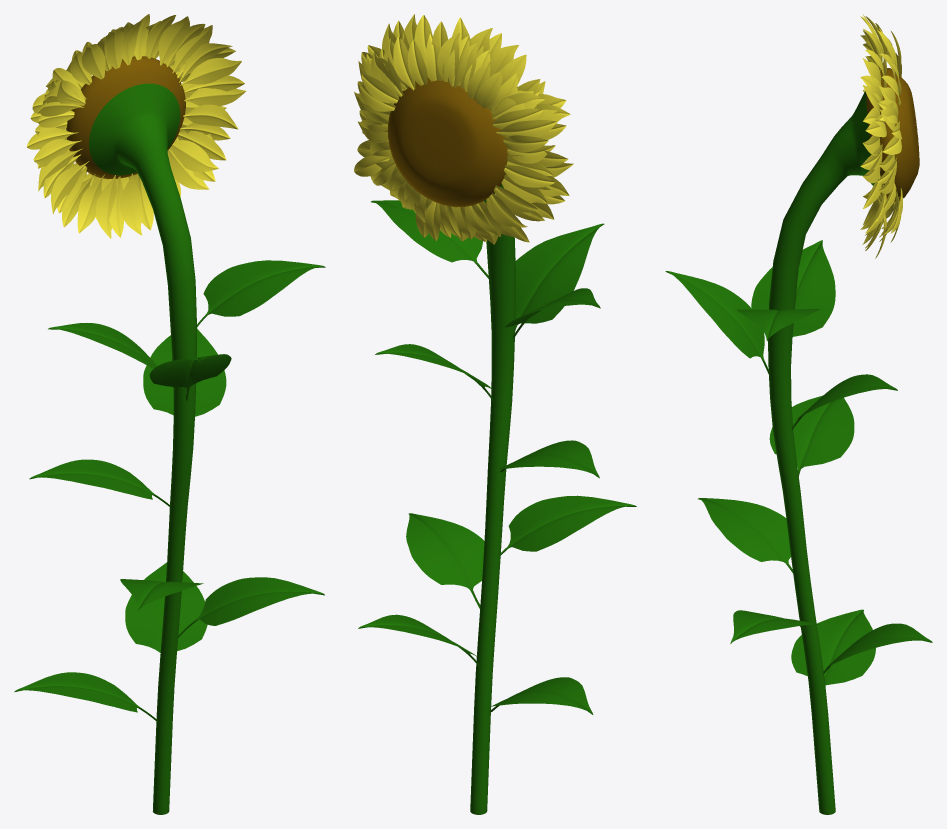
File: sunflowernew.fbx
3 renders of one model, left to right at view 1: azimuth 30°, elevation 25°; view 2: azimuth 150°, elevation 25°; view 3: azimuth 270°, elevation 25°, orthographic. The views are drawn at different scales.
Visible parts, largest first — view 1: sunflowerstem, sunflowers_sunflowerpetals_leaf48; view 2: sunflowerstem, sunflowers_sunflowerpetals_leaf48; view 3: sunflowerstem, sunflowers_sunflowerpetals_leaf48.
Boxes of the visible parts, x1,y1,x2,y2 form: sunflowerstem: [14, 56, 325, 814]; sunflowers_sunflowerpetals_leaf48: [27, 14, 245, 238]; sunflowerstem: [358, 77, 636, 814]; sunflowers_sunflowerpetals_leaf48: [354, 14, 573, 244]; sunflowerstem: [665, 68, 932, 814]; sunflowers_sunflowerpetals_leaf48: [860, 14, 902, 258].
Bounding box in the file's own units: 2.11 × 5.98 × 1.85.
